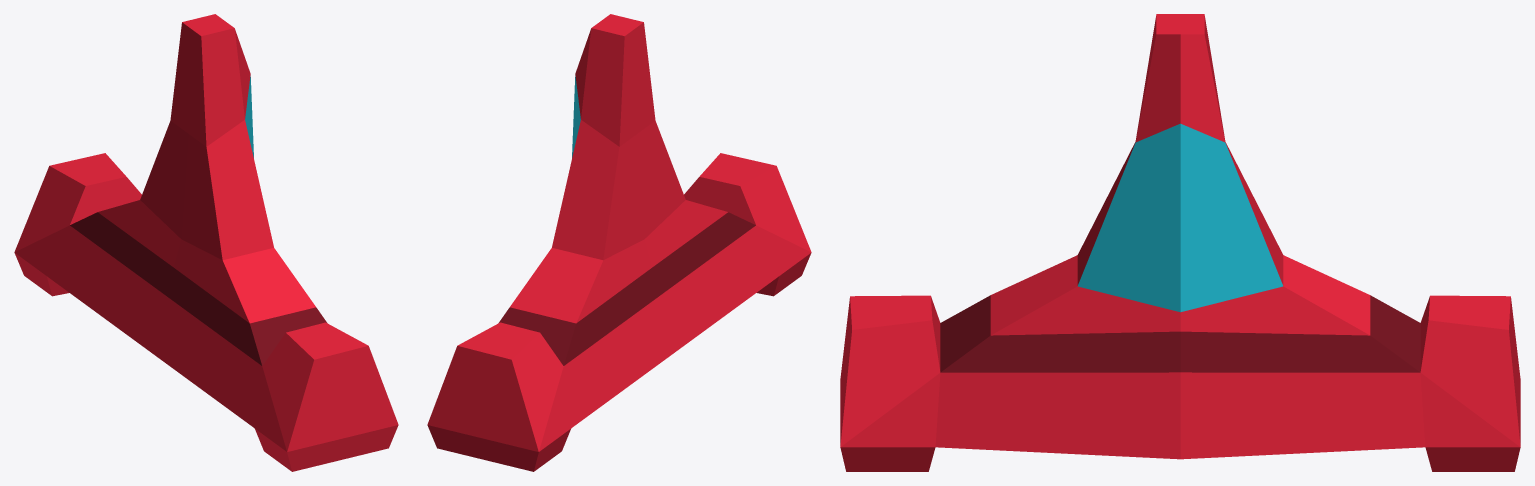
File: baseShip.fbx
The picture shows the model from 3 angles, left to right: view 1: azimuth 30°, elevation 25°; view 2: azimuth 150°, elevation 25°; view 3: azimuth 270°, elevation 25°; orthographic projection. The views are drawn at different scales.
Parts seen in each view (by area): view 1: 立方體; view 2: 立方體; view 3: 立方體.
Part boxes in pixels (x1,y1,x2,y2): 立方體: (14, 14, 398, 471); 立方體: (427, 14, 811, 471); 立方體: (840, 14, 1520, 471).
Size of the model in its own units: 87.7 by 215 by 316.
